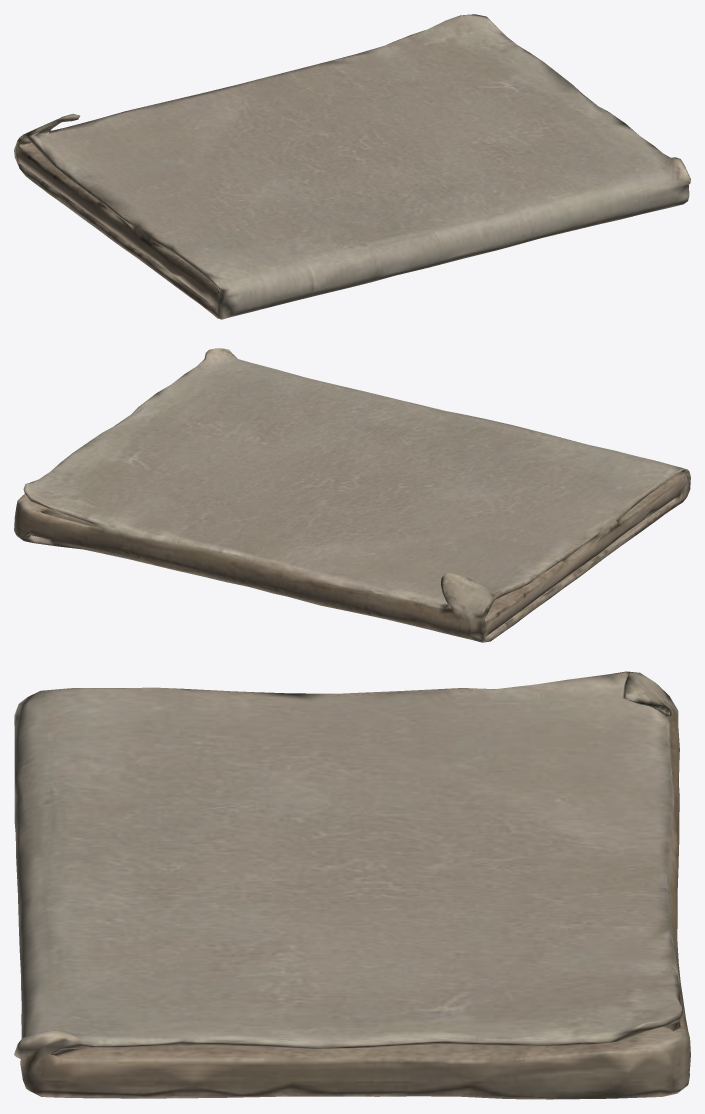
The model's file is manual.glb.
3 renders of one model, top to bottom at view 1: azimuth 30°, elevation 25°; view 2: azimuth 150°, elevation 25°; view 3: azimuth 270°, elevation 25°, orthographic. The views are drawn at different scales.
Parts seen in each view (by area): view 1: Mesh_0; view 2: Mesh_0; view 3: Mesh_0.
Boxes of the visible parts, left/top/right/bottom form: Mesh_0: left=14, top=14, right=690, bottom=319; Mesh_0: left=14, top=348, right=690, bottom=642; Mesh_0: left=14, top=671, right=690, bottom=1099.
Bounding box in the file's own units: 0.26 × 0.0297 × 0.2058.
1 material, 1 textured.
